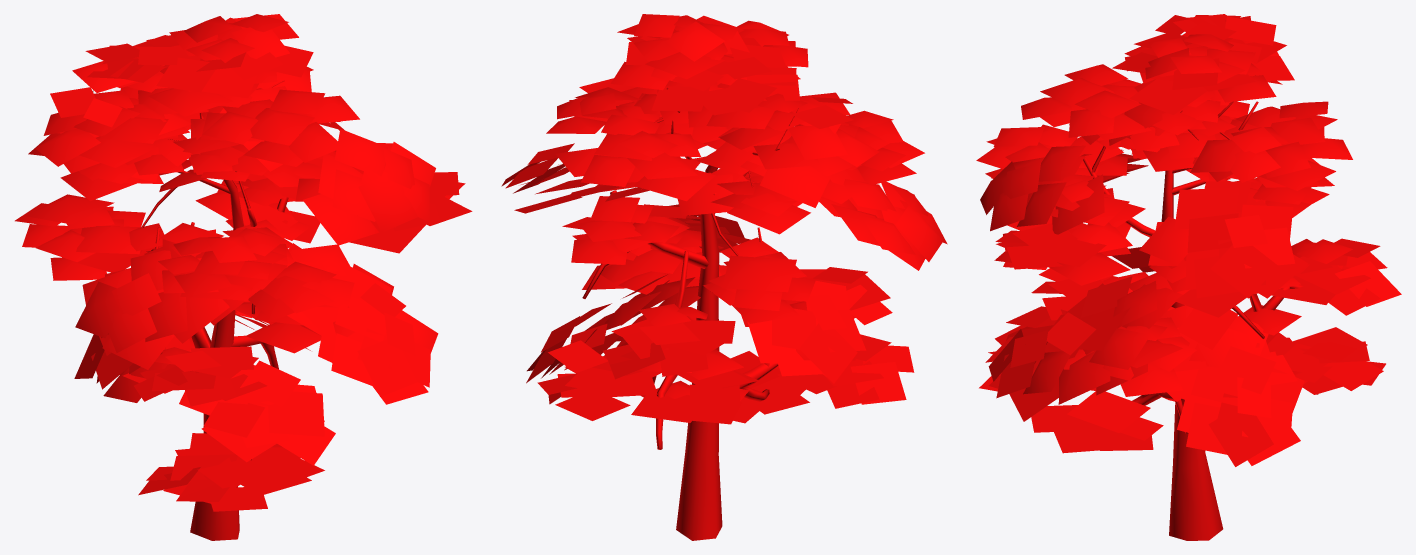
File: Tree_001_H.FBX
3 renders of one model, left to right at view 1: azimuth 30°, elevation 25°; view 2: azimuth 150°, elevation 25°; view 3: azimuth 270°, elevation 25°, orthographic.
Parts seen in each view (by area): view 1: Tree_001_H003; view 2: Tree_001_H003; view 3: Tree_001_H003.
Part boxes in pixels (x1,y1,x2,y2): Tree_001_H003: (15, 14, 472, 540); Tree_001_H003: (501, 14, 947, 540); Tree_001_H003: (976, 14, 1401, 540).
Bounding box in the file's own units: 8.78 × 11.25 × 8.75.
